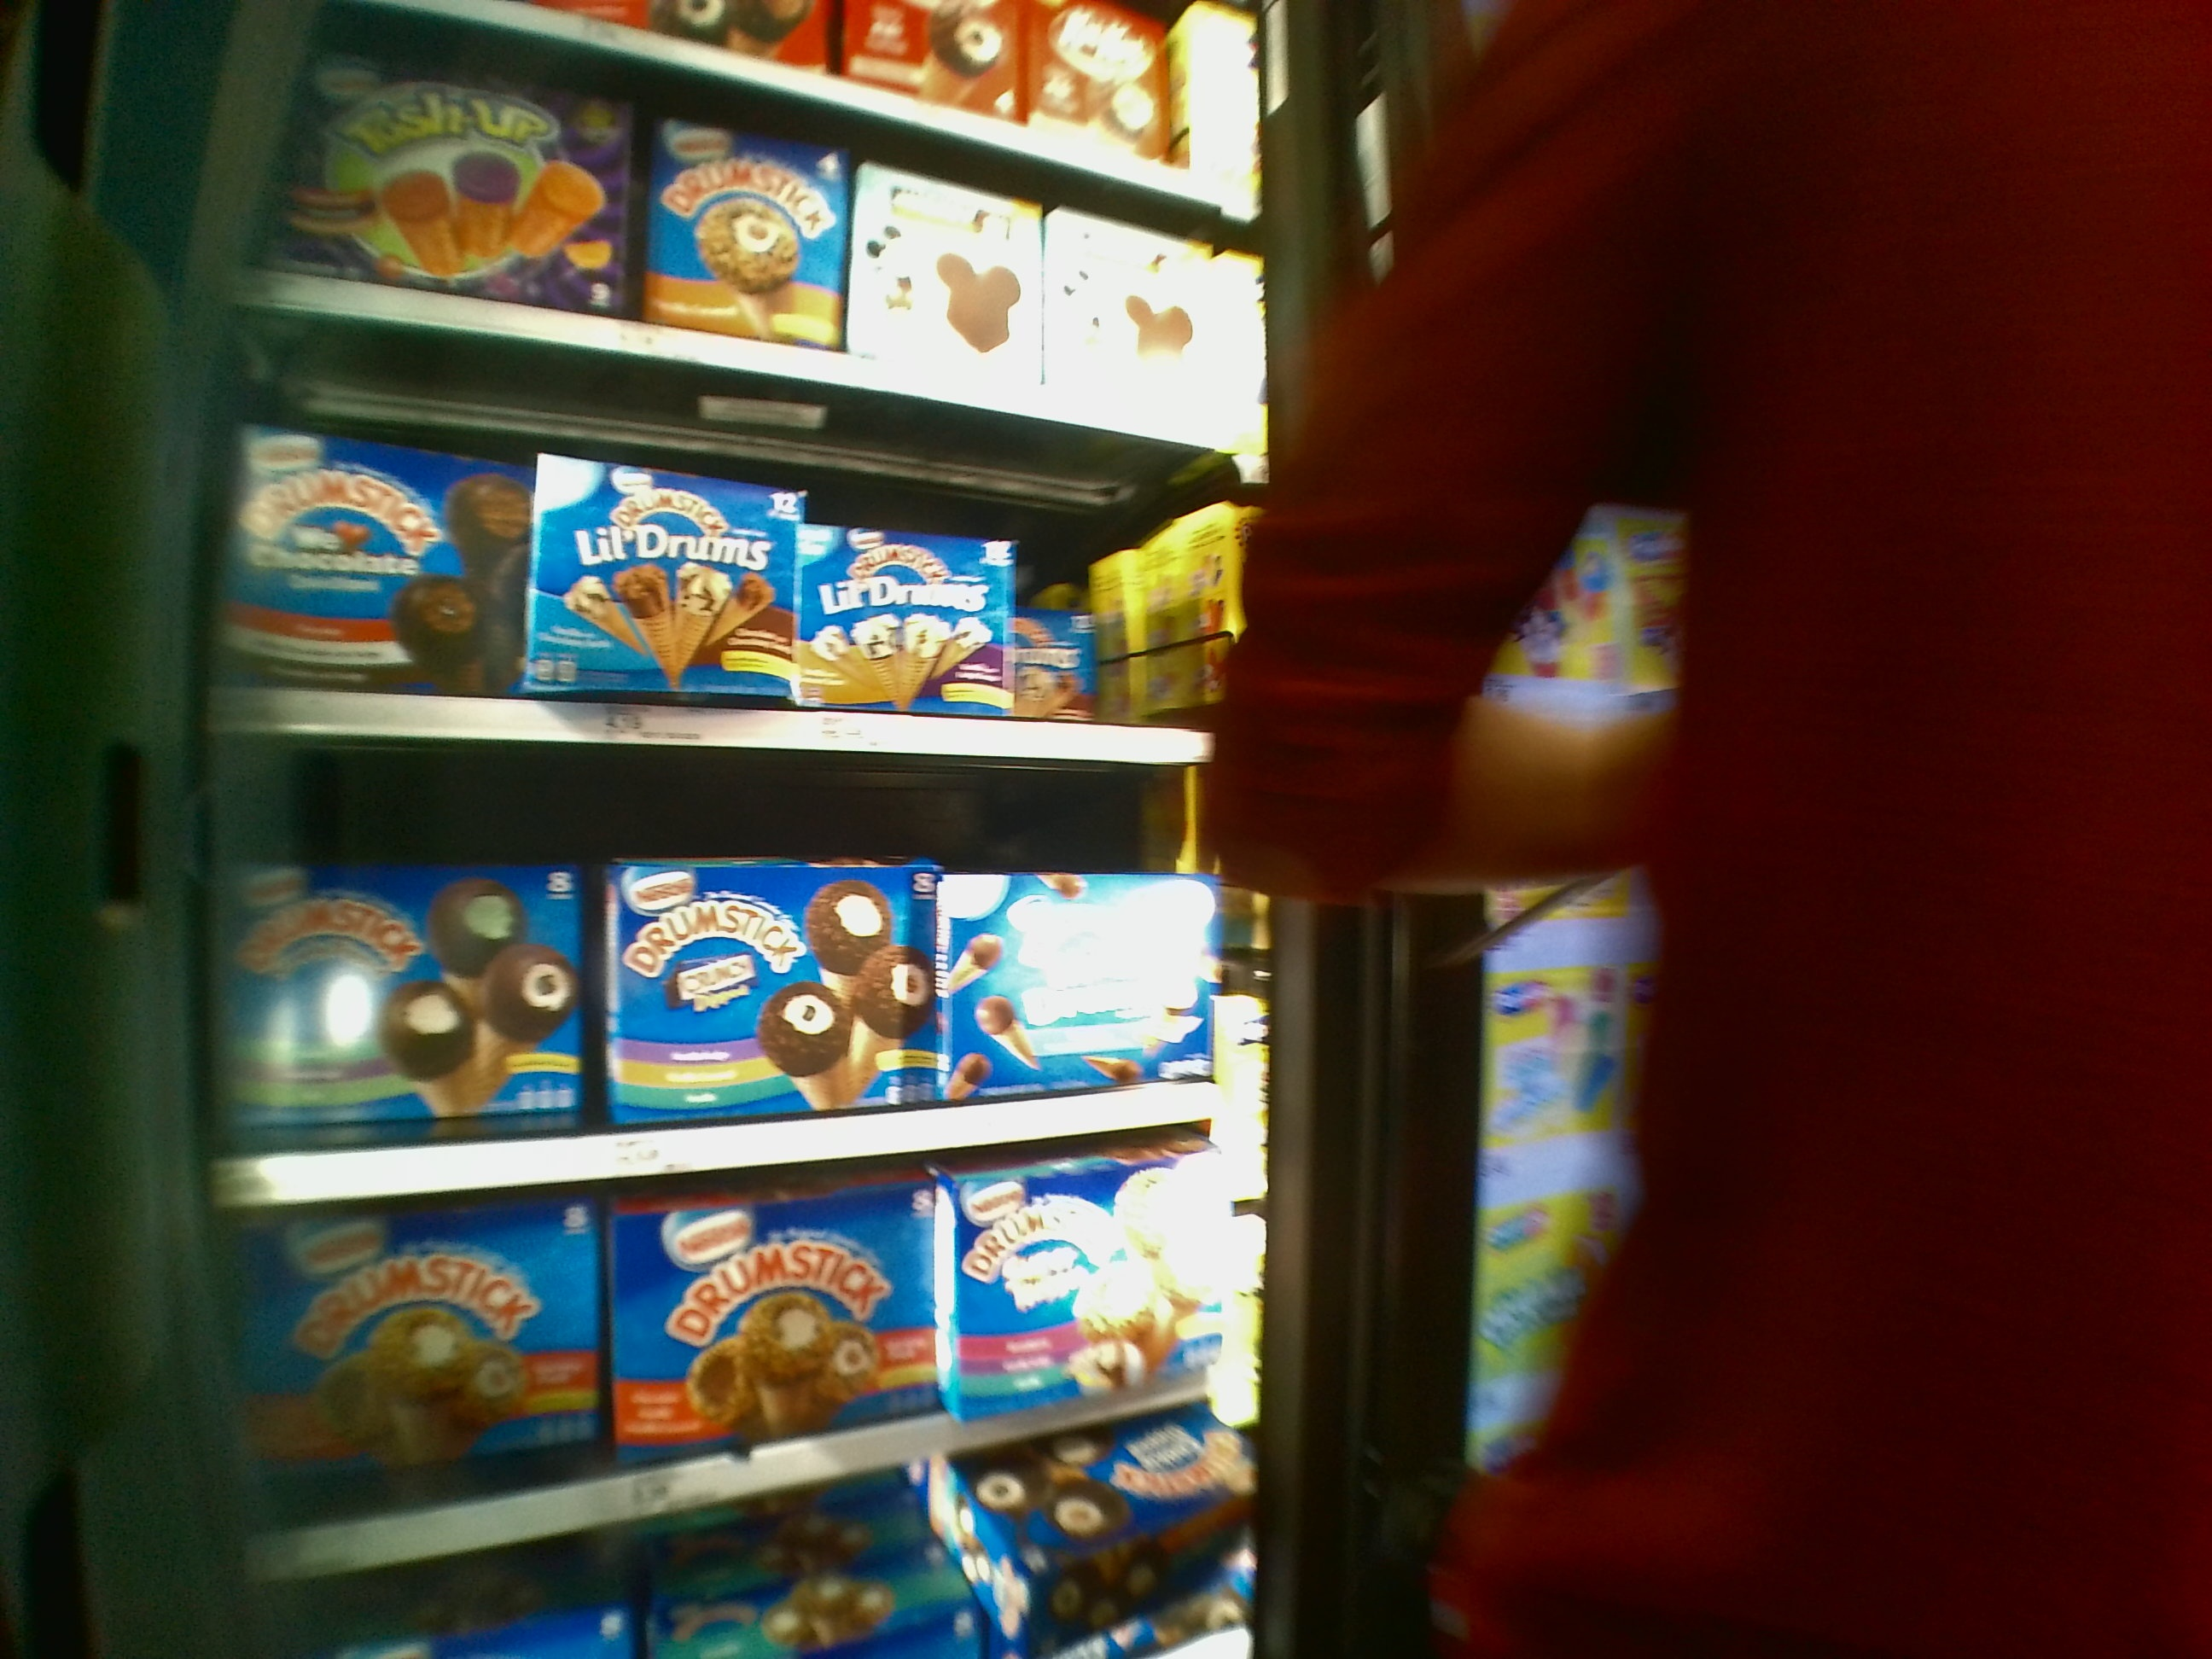shelf: (212, 730, 1268, 1150), (228, 1164, 1247, 1527), (273, 37, 1238, 416), (226, 423, 1237, 735)
